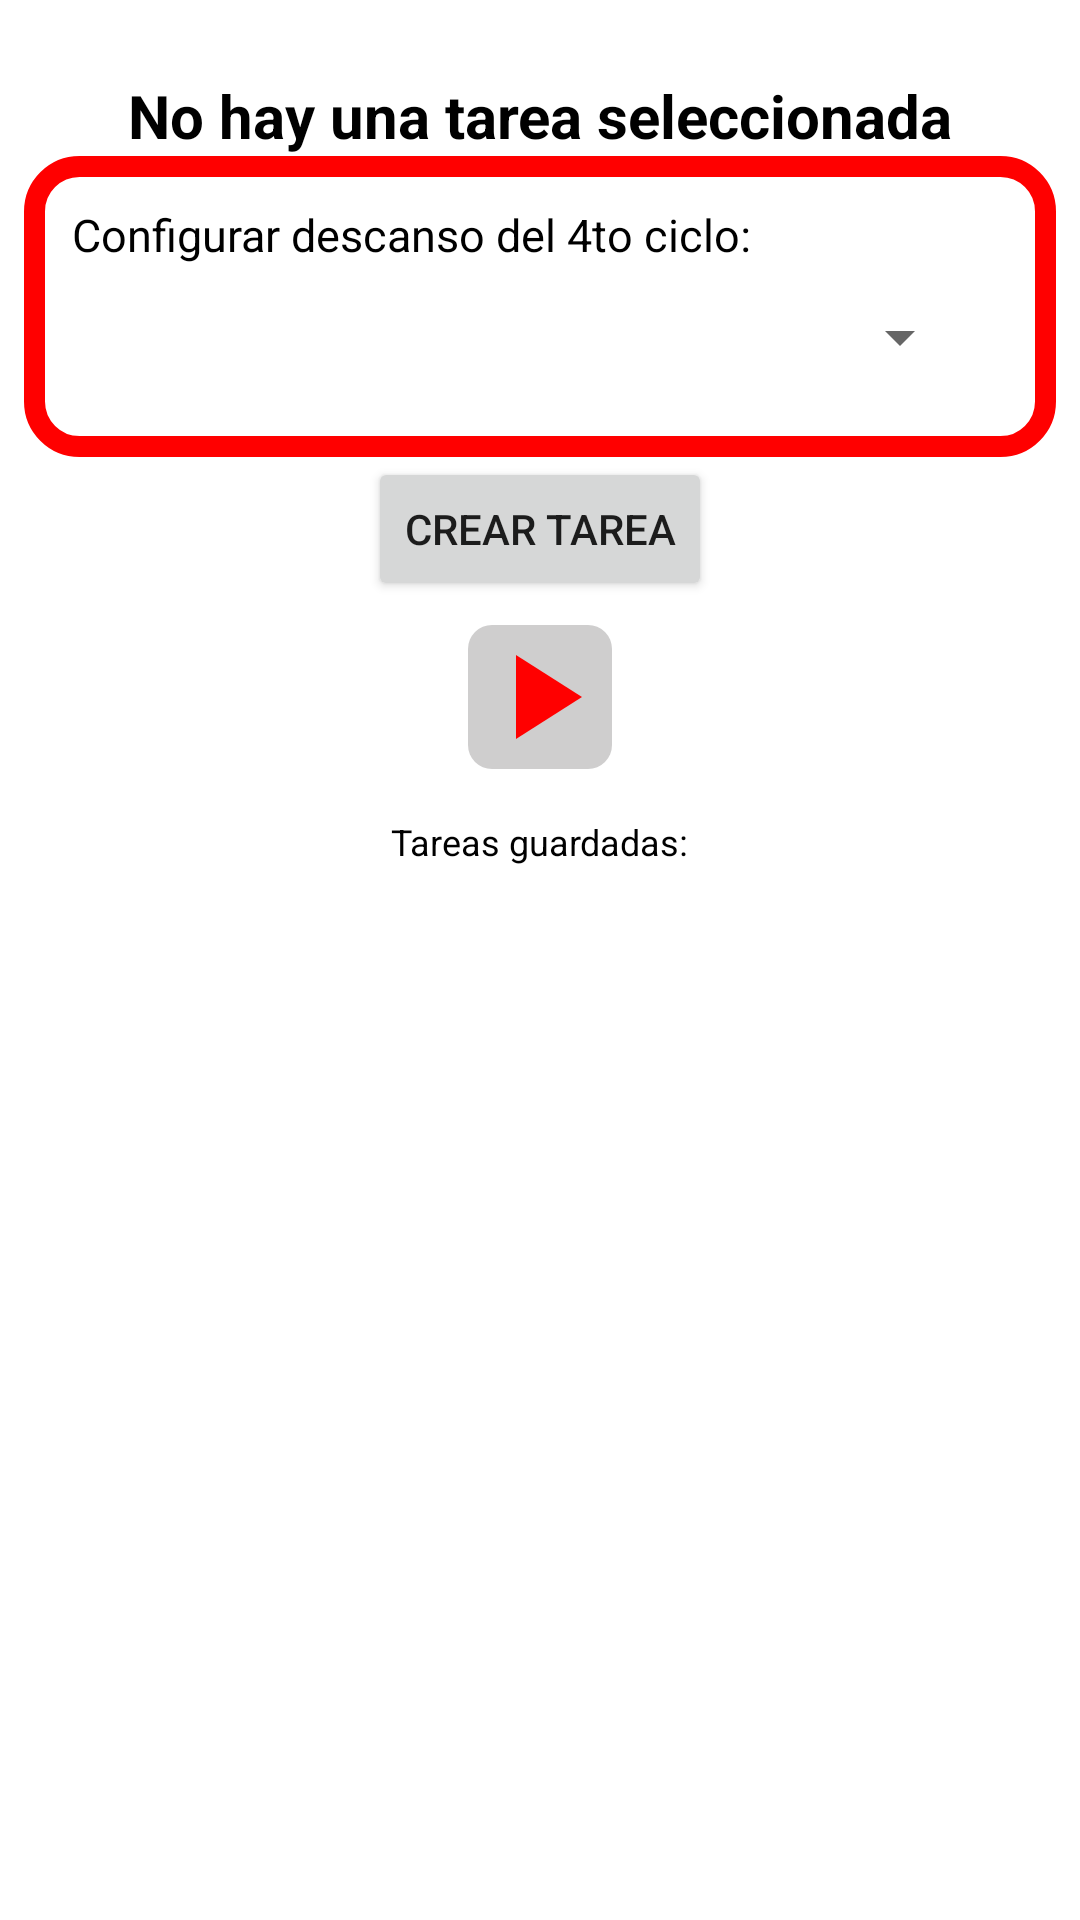

Icon click points for this 1080px×1920px phone screenshot, format point (x, y):
Empezar ciclo: point (540, 697)
